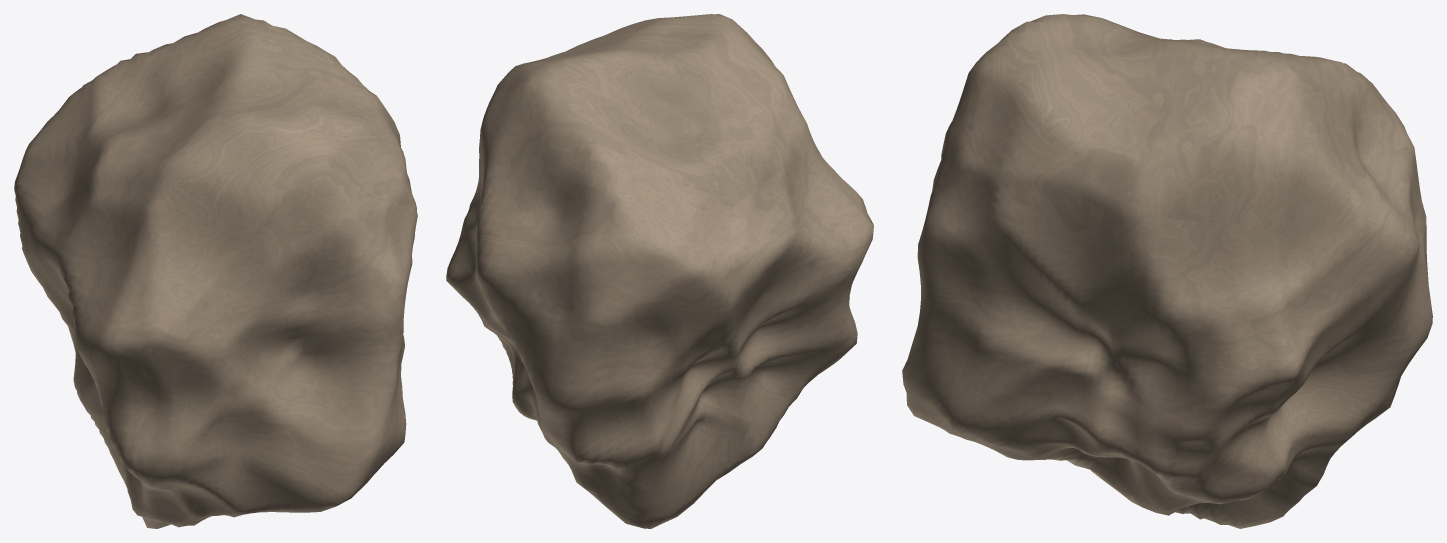
The model's file is boulder7.fbx.
3 renders of one model, left to right at view 1: azimuth 30°, elevation 25°; view 2: azimuth 150°, elevation 25°; view 3: azimuth 270°, elevation 25°, orthographic. The views are drawn at different scales.
Visible parts, largest first — view 1: cube.sphere.32; view 2: cube.sphere.32; view 3: cube.sphere.32.
Part boxes in pixels (x1,y1,x2,y2): cube.sphere.32: (14, 14, 417, 528); cube.sphere.32: (446, 14, 873, 528); cube.sphere.32: (902, 14, 1432, 528).
Size of the model in its own units: 110 by 141 by 131.
